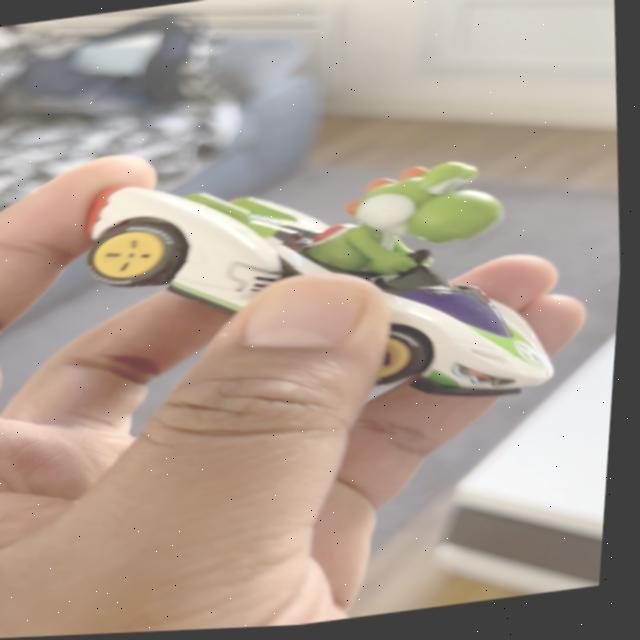yoshi: (73, 123, 597, 468)
